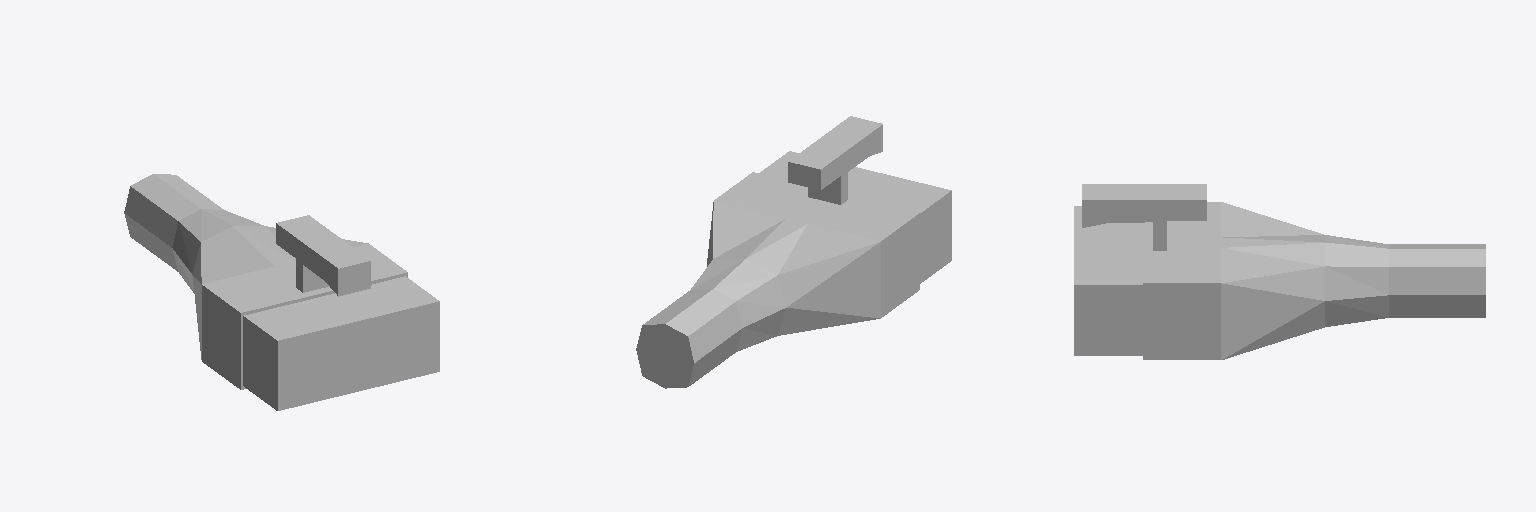
The model's file is 10Pin.obj.
The picture shows the model from 3 angles: view 1: azimuth 30°, elevation 25°; view 2: azimuth 150°, elevation 25°; view 3: azimuth 270°, elevation 25°; orthographic projection.
Visible parts, largest first — view 1: Cube.002; view 2: Cube.002; view 3: Cube.002.
Boxes of the visible parts, <box> form: Cube.002: <box>124,174,439,410</box>; Cube.002: <box>636,116,951,388</box>; Cube.002: <box>1074,184,1485,359</box>.
Bounding box in the file's own units: 0.1951 × 0.1419 × 0.4153.